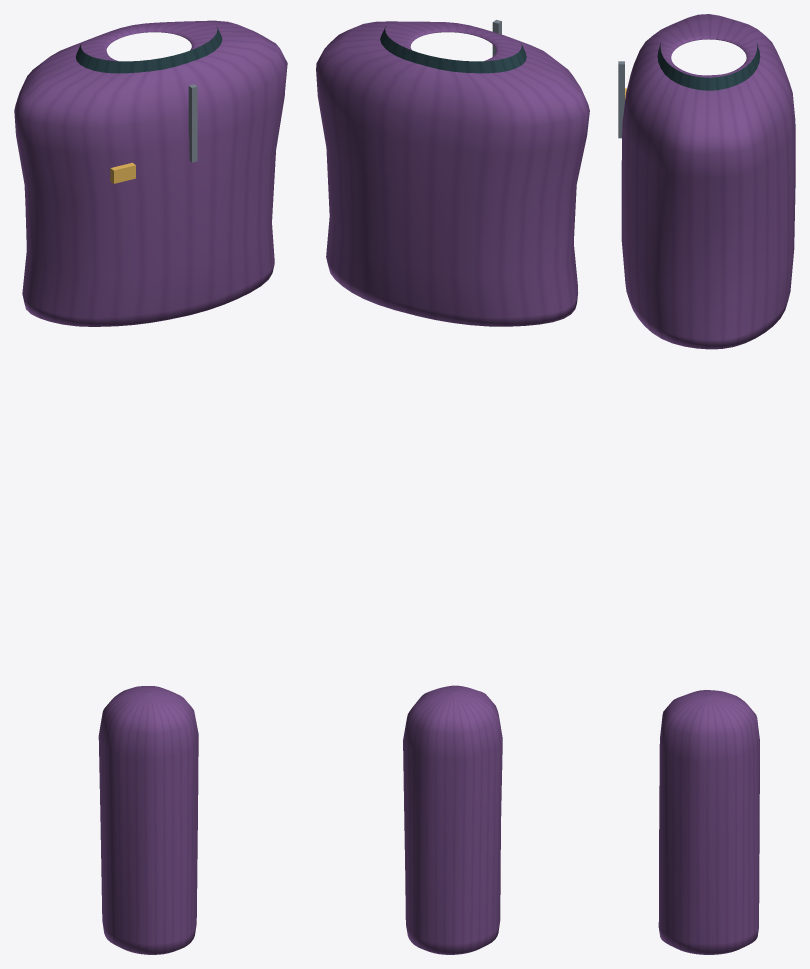
The model's file is reference_quarter_zip.gltf.
3 views of the same model, side by side, from view 1: azimuth 30°, elevation 25°; view 2: azimuth 150°, elevation 25°; view 3: azimuth 270°, elevation 25° (orthographic).
Visible parts, largest first — view 1: Torso, SleeveL; view 2: Torso, SleeveL; view 3: Torso, SleeveL.
Boxes of the visible parts, x1,y1,x2,y2 form: Torso: [14, 20, 287, 326]; SleeveL: [98, 686, 198, 954]; Torso: [316, 19, 589, 326]; SleeveL: [403, 685, 502, 954]; Torso: [618, 14, 795, 349]; SleeveL: [658, 690, 759, 954].
Size of the model in its own units: 0.5276 by 1.75 by 0.3153.
4 materials, 4 textured.
